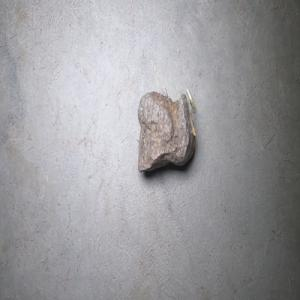Rock: (136, 87, 196, 172)
